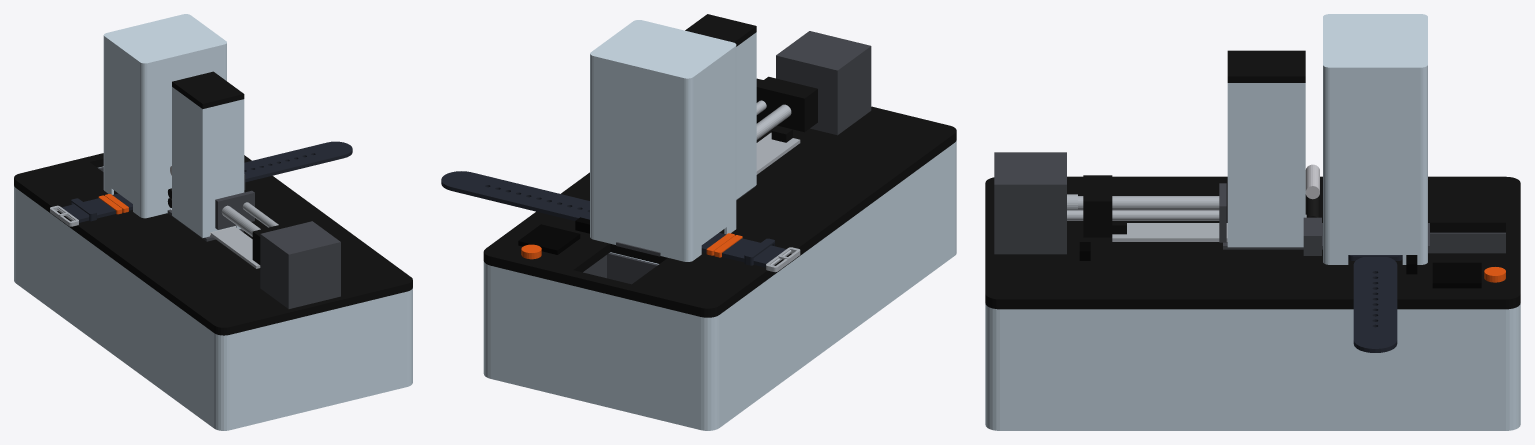
The model's file is dock.glb.
3 renders of one model, left to right at view 1: azimuth 30°, elevation 25°; view 2: azimuth 150°, elevation 25°; view 3: azimuth 270°, elevation 25°, orthographic. The views are drawn at different scales.
Visible parts, largest first — view 1: 000 Dock (motorised card changer) / Dock housing (opaque in , 001 Dock (motorised card changer) / Deck plate, 027 Dock (motorised card changer) / Light-box lid (opaque bl, 008 Dock (motorised card changer) / Sealed card magazine (25, 013 Dock (motorised card changer) / Stepper NEMA 17 (card pu, 051 Wristband (reusable) (in dock) / Strap A - holes (FKM), 012 Dock (motorised card changer) / Magazine lid with desicc, 020 Dock (motorised card changer) / Push rod (stainless stri, 017 Dock (motorised card changer) / Screw end bearing, 052 Wristband (reusable) (in dock) / Strap B - buckle (FKM), 018 Dock (motorised card changer) / Lead-screw carriage (sho, 015 Dock (motorised card changer) / T8 lead screw; view 2: 000 Dock (motorised card changer) / Dock housing (opaque in , 027 Dock (motorised card changer) / Light-box lid (opaque bl, 001 Dock (motorised card changer) / Deck plate, 013 Dock (motorised card changer) / Stepper NEMA 17 (card pu, 051 Wristband (reusable) (in dock) / Strap A - holes (FKM), 008 Dock (motorised card changer) / Sealed card magazine (25, 018 Dock (motorised card changer) / Lead-screw carriage (sho, 044 Dock (motorised card changer) / Sealed used-card bin (ke, 012 Dock (motorised card changer) / Magazine lid with desicc, 045 Dock (motorised card changer) / Status OLED 0.96 in, 052 Wristband (reusable) (in dock) / Strap B - buckle (FKM), 020 Dock (motorised card changer) / Push rod (stainless stri (+1 smaller); view 3: 000 Dock (motorised card changer) / Dock housing (opaque in , 001 Dock (motorised card changer) / Deck plate, 027 Dock (motorised card changer) / Light-box lid (opaque bl, 008 Dock (motorised card changer) / Sealed card magazine (25, 013 Dock (motorised card changer) / Stepper NEMA 17 (card pu, 051 Wristband (reusable) (in dock) / Strap A - holes (FKM), 012 Dock (motorised card changer) / Magazine lid with desicc, 020 Dock (motorised card changer) / Push rod (stainless stri, 018 Dock (motorised card changer) / Lead-screw carriage (sho, 015 Dock (motorised card changer) / T8 lead screw, 044 Dock (motorised card changer) / Sealed used-card bin (ke, 016 Dock (motorised card changer) / Guide rod (+2 smaller).
Part boxes in pixels (x1,y1,x2,y2): 000 Dock (motorised card changer) / Dock housing (opaque in : (14,166,412,430); 001 Dock (motorised card changer) / Deck plate: (14,153,412,335); 027 Dock (motorised card changer) / Light-box lid (opaque bl: (103,14,226,218); 008 Dock (motorised card changer) / Sealed card magazine (25: (172,87,244,237); 013 Dock (motorised card changer) / Stepper NEMA 17 (card pu: (260,221,340,308); 051 Wristband (reusable) (in dock) / Strap A - holes (FKM): (244,141,352,182); 012 Dock (motorised card changer) / Magazine lid with desicc: (172,71,244,108); 020 Dock (motorised card changer) / Push rod (stainless stri: (210,227,260,268); 017 Dock (motorised card changer) / Screw end bearing: (215,190,254,229); 052 Wristband (reusable) (in dock) / Strap B - buckle (FKM): (62,193,132,222); 018 Dock (motorised card changer) / Lead-screw carriage (sho: (252,221,298,264); 015 Dock (motorised card changer) / T8 lead screw: (221,205,260,236); 000 Dock (motorised card changer) / Dock housing (opaque in : (483,140,956,430); 027 Dock (motorised card changer) / Light-box lid (opaque bl: (590,20,736,261); 001 Dock (motorised card changer) / Deck plate: (483,78,956,317); 013 Dock (motorised card changer) / Stepper NEMA 17 (card pu: (776,31,871,135); 051 Wristband (reusable) (in dock) / Strap A - holes (FKM): (441,171,589,220); 008 Dock (motorised card changer) / Sealed card magazine (25: (736,32,756,199); 018 Dock (motorised card changer) / Lead-screw carriage (sho: (756,76,817,132); 044 Dock (motorised card changer) / Sealed used-card bin (ke: (583,252,658,284); 012 Dock (motorised card changer) / Magazine lid with desicc: (685,14,756,46); 045 Dock (motorised card changer) / Status OLED 0.96 in: (518,224,580,254); 052 Wristband (reusable) (in dock) / Strap B - buckle (FKM): (701,232,786,267); 020 Dock (motorised card changer) / Push rod (stainless stri: (756,132,800,174); 000 Dock (motorised card changer) / Dock housing (opaque in : (985,303,1520,430); 001 Dock (motorised card changer) / Deck plate: (985,176,1520,309); 027 Dock (motorised card changer) / Light-box lid (opaque bl: (1323,14,1427,264); 008 Dock (motorised card changer) / Sealed card magazine (25: (1227,83,1305,247); 013 Dock (motorised card changer) / Stepper NEMA 17 (card pu: (994,152,1066,254); 051 Wristband (reusable) (in dock) / Strap A - holes (FKM): (1353,257,1397,352); 012 Dock (motorised card changer) / Magazine lid with desicc: (1227,50,1305,82); 020 Dock (motorised card changer) / Push rod (stainless stri: (1112,223,1227,241); 018 Dock (motorised card changer) / Lead-screw carriage (sho: (1083,175,1112,237); 015 Dock (motorised card changer) / T8 lead screw: (1078,196,1219,210); 044 Dock (motorised card changer) / Sealed used-card bin (ke: (1428,232,1505,253); 016 Dock (motorised card changer) / Guide rod: (1067,210,1219,220).
Size of the model in its own units: 0.236 by 0.2 by 0.295.
